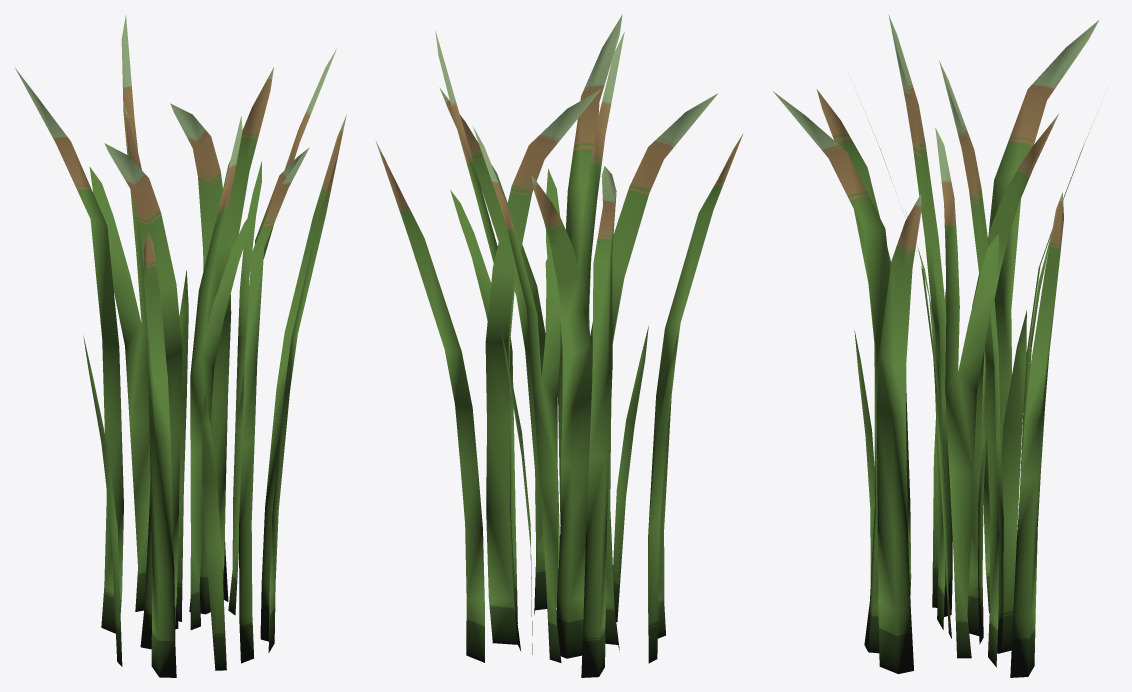
Rendered from Grass_Common_Tall__go_ruins.glb.
The picture shows the model from 3 angles, left to right: view 1: azimuth 30°, elevation 25°; view 2: azimuth 150°, elevation 25°; view 3: azimuth 270°, elevation 25°; orthographic projection. The views are drawn at different scales.
Parts seen in each view (by area): view 1: Grass_Common_Tall; view 2: Grass_Common_Tall; view 3: Grass_Common_Tall.
Part boxes in pixels (bbox=[...]): Grass_Common_Tall: bbox=[15, 15, 346, 677]; Grass_Common_Tall: bbox=[375, 14, 743, 677]; Grass_Common_Tall: bbox=[773, 15, 1101, 677].
Bounding box in the file's own units: 0.8951 × 1.87 × 0.9931.
Materials: 1 (1 with a texture image).
